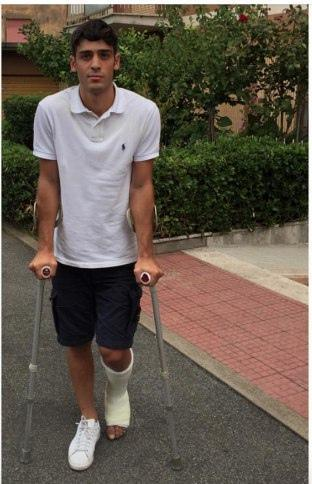crutches: (15, 20, 188, 474)
